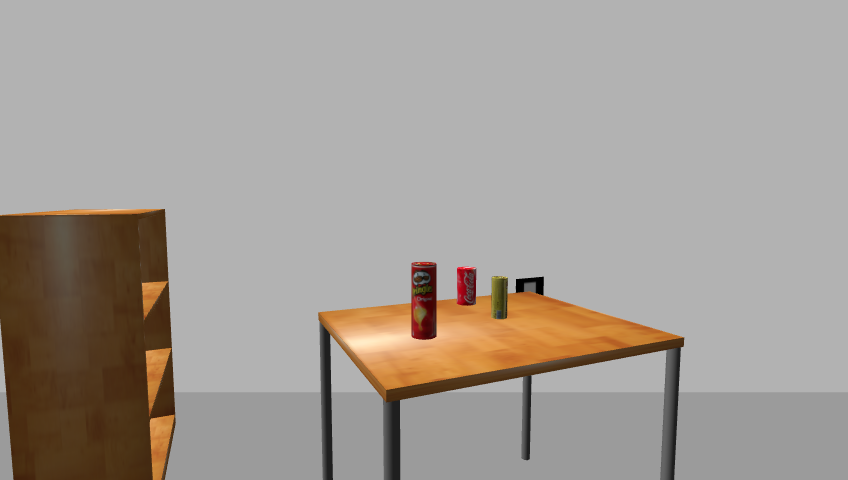aruco marker: (511, 276, 547, 299)
biscuits pack: (492, 276, 508, 320)
bookshelf: (0, 209, 181, 479)
coke can: (456, 266, 476, 306)
dinner table: (311, 293, 693, 480)
pringles can: (409, 261, 438, 341)
